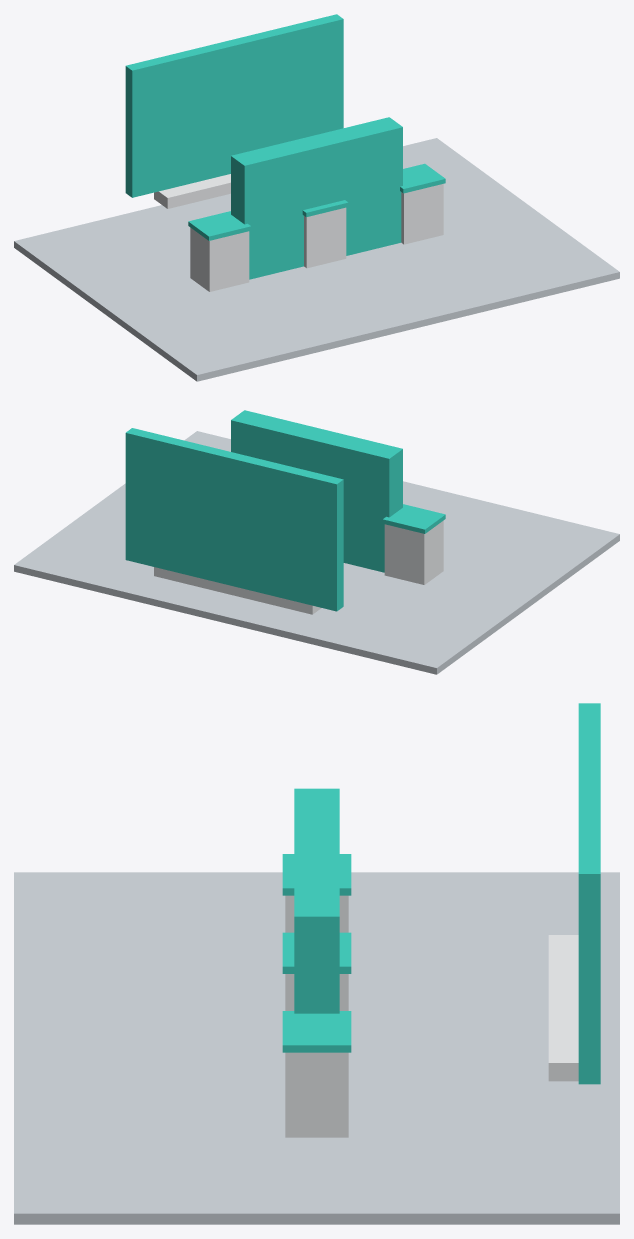
The picture shows the model from 3 angles, top to bottom: view 1: azimuth 30°, elevation 25°; view 2: azimuth 150°, elevation 25°; view 3: azimuth 270°, elevation 25°; orthographic projection. The views are drawn at different scales.
Parts seen in each view (by area): view 1: Exhibition Booth Concept; view 2: Exhibition Booth Concept; view 3: Exhibition Booth Concept.
Boxes of the visible parts, box(x1,y1,x2,y2) form: Exhibition Booth Concept: box(14, 14, 619, 381); Exhibition Booth Concept: box(14, 410, 619, 674); Exhibition Booth Concept: box(14, 703, 619, 1224).
Bounding box in the file's own units: 8 × 2.9 × 6.
